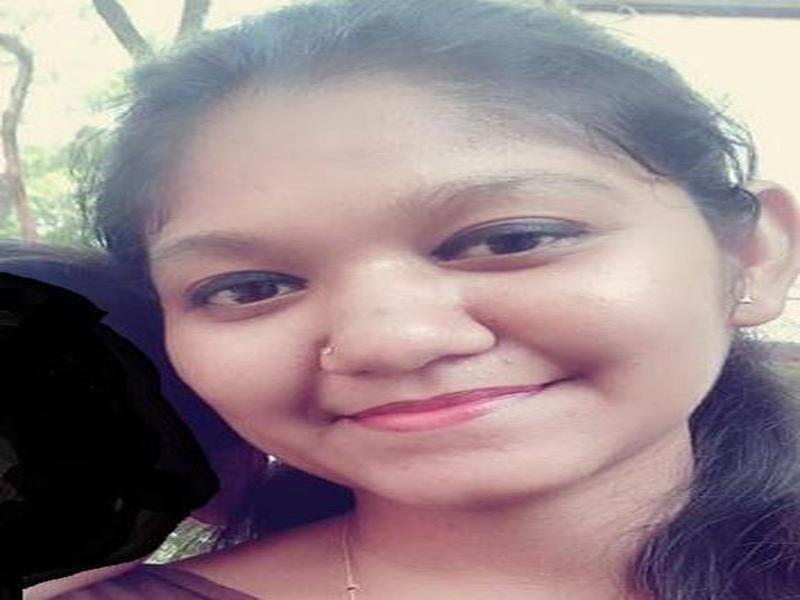without_mask: (151, 89, 725, 502)
